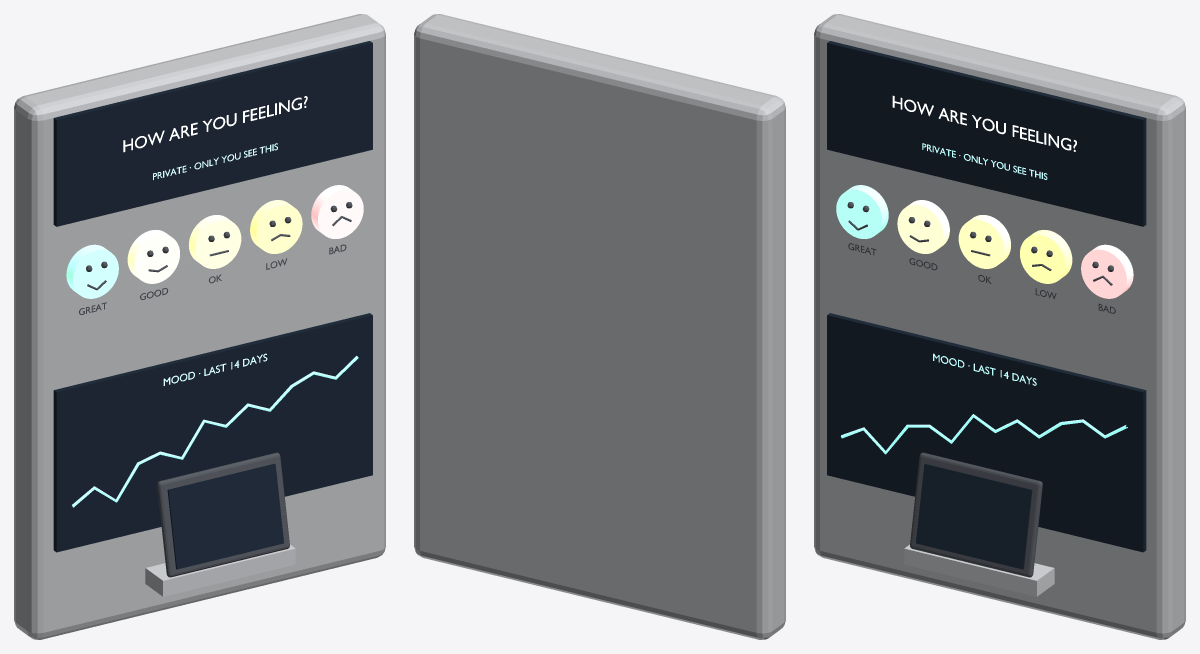
Rendered from mood_tracker.glb.
The picture shows the model from 3 angles, left to right: view 1: azimuth 30°, elevation 25°; view 2: azimuth 150°, elevation 25°; view 3: azimuth 330°, elevation 25°; orthographic projection.
Parts seen in each view (by area): view 1: Mood_Panel, Trend_Screen, Question_Screen, Tablet_Screen, Crew_Tablet, Tablet_Dock, Mood_Button, Mood_Button.001, Mood_Button.004, Mood_Button.003, Mood_Button.002, Mood_Trend (+1 smaller); view 2: Mood_Panel; view 3: Mood_Panel, Trend_Screen, Question_Screen, Tablet_Screen, Crew_Tablet, Tablet_Dock, Mood_Button.004, Mood_Button.003, Mood_Button.001, Mood_Button.002, Mood_Button, Mood_Trend (+1 smaller).
Boxes of the visible parts, bbox=[...] form: Mood_Panel: bbox=[14, 14, 385, 639]; Trend_Screen: bbox=[53, 313, 372, 552]; Question_Screen: bbox=[53, 41, 372, 226]; Tablet_Screen: bbox=[167, 463, 283, 569]; Crew_Tablet: bbox=[157, 452, 289, 577]; Tablet_Dock: bbox=[145, 544, 295, 596]; Mood_Button: bbox=[66, 244, 118, 298]; Mood_Button.001: bbox=[127, 230, 179, 283]; Mood_Button.004: bbox=[311, 185, 363, 238]; Mood_Button.003: bbox=[250, 200, 302, 253]; Mood_Button.002: bbox=[189, 215, 241, 268]; Mood_Trend: bbox=[72, 356, 358, 507]; Mood_Panel: bbox=[414, 14, 785, 639]; Mood_Panel: bbox=[814, 14, 1185, 639]; Trend_Screen: bbox=[827, 313, 1146, 552]; Question_Screen: bbox=[827, 41, 1146, 226]; Tablet_Screen: bbox=[916, 463, 1032, 569]; Crew_Tablet: bbox=[910, 452, 1042, 577]; Tablet_Dock: bbox=[904, 544, 1054, 596]; Mood_Button.004: bbox=[1081, 244, 1133, 298]; Mood_Button.003: bbox=[1020, 230, 1072, 283]; Mood_Button.001: bbox=[897, 200, 949, 253]; Mood_Button.002: bbox=[958, 215, 1010, 268]; Mood_Button: bbox=[836, 185, 888, 238]; Mood_Trend: bbox=[841, 414, 1127, 454].
Bounding box in the file's own units: 0.7 × 1 × 0.144.
